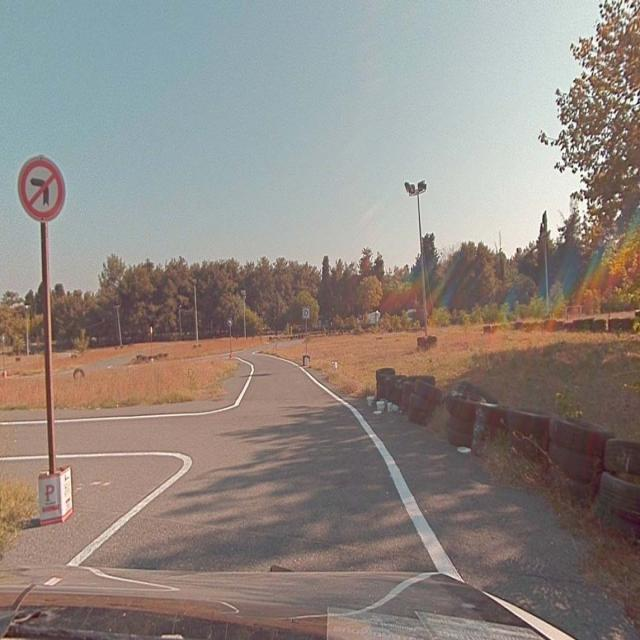durak: (304, 308, 310, 318)
soladonulmez: (18, 156, 64, 217)
